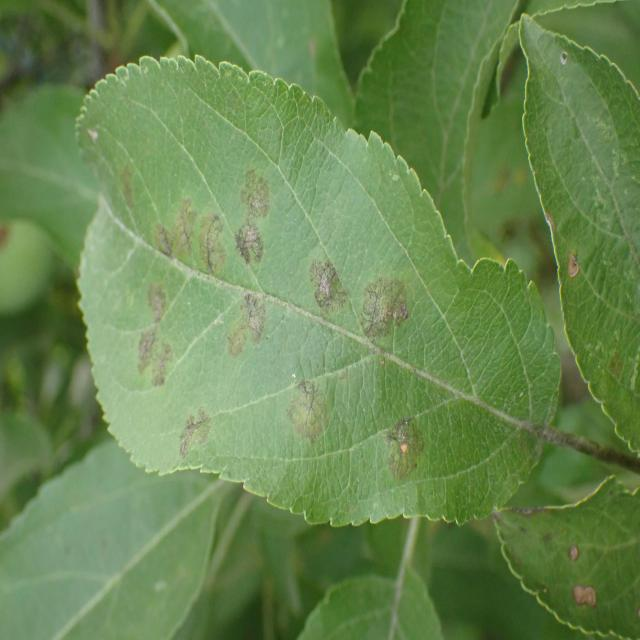scab: (83, 108, 474, 525), (530, 37, 640, 454), (497, 481, 640, 640)
